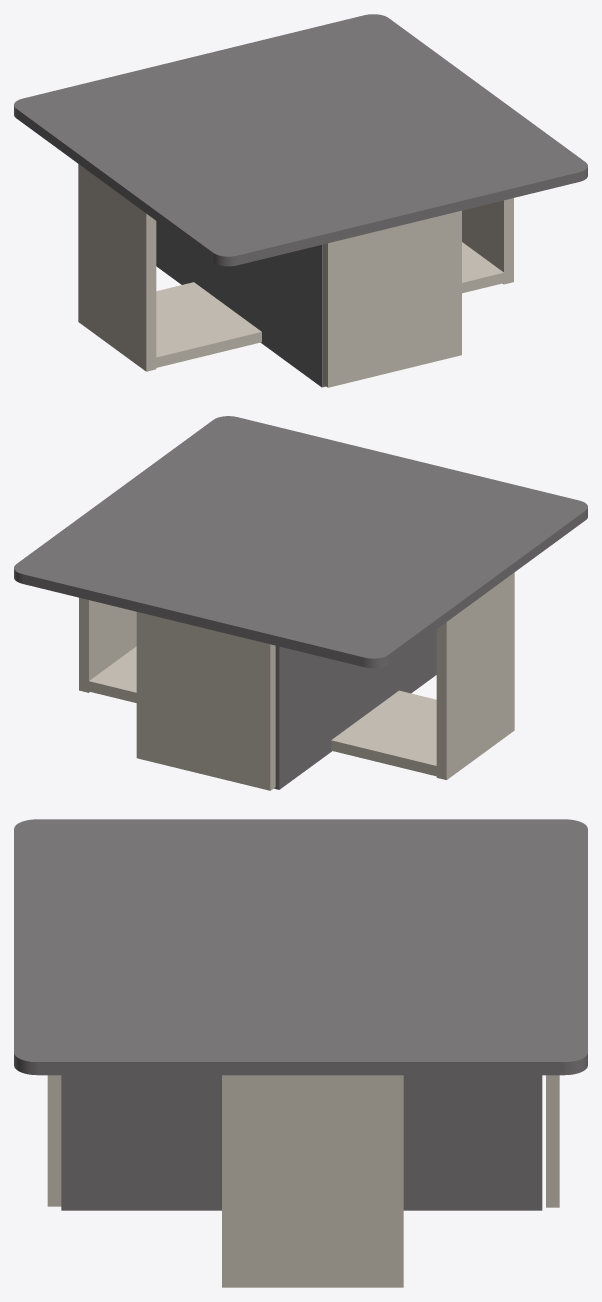
The model's file is 2pir_lawa.obj.
The picture shows the model from 3 angles, top to bottom: view 1: azimuth 30°, elevation 25°; view 2: azimuth 150°, elevation 25°; view 3: azimuth 270°, elevation 25°; orthographic projection. The views are drawn at different scales.
Visible parts, largest first — view 1: Rectangle10, Box010, Box005, Box006, Box007; view 2: Rectangle10, Box009, Box005, Box006, Box007; view 3: Rectangle10, Box008, Box005, Box010, Box009.
Part boxes in pixels (bbox=[...]): Rectangle10: bbox=[14, 14, 587, 266]; Box010: bbox=[323, 210, 461, 387]; Box005: bbox=[78, 164, 513, 371]; Box006: bbox=[156, 221, 325, 387]; Box007: bbox=[155, 242, 505, 367]; Rectangle10: bbox=[14, 416, 587, 668]; Box009: bbox=[136, 612, 275, 790]; Box005: bbox=[79, 572, 514, 779]; Box006: bbox=[274, 629, 436, 789]; Box007: bbox=[87, 646, 436, 776]; Rectangle10: bbox=[14, 819, 587, 1075]; Box008: bbox=[61, 1075, 542, 1210]; Box005: bbox=[222, 1075, 403, 1287]; Box010: bbox=[47, 1075, 61, 1206]; Box009: bbox=[546, 1075, 559, 1207].
Bounding box in the file's own units: 79.92 × 34.86 × 79.84.
